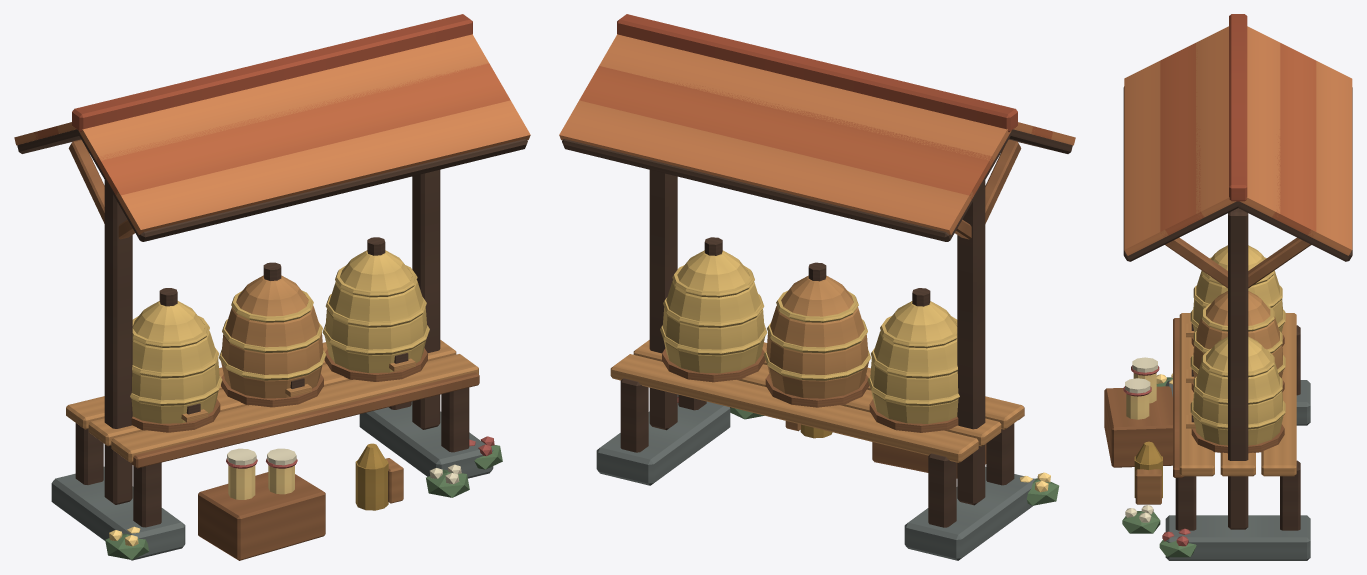
The model's file is beehive_apiary_stand.glb.
The picture shows the model from 3 angles, left to right: view 1: azimuth 30°, elevation 25°; view 2: azimuth 150°, elevation 25°; view 3: azimuth 270°, elevation 25°; orthographic projection. The views are drawn at different scales.
Visible parts, largest first — view 1: beehive_apiary_stand; view 2: beehive_apiary_stand; view 3: beehive_apiary_stand.
Part boxes in pixels (x1,y1,x2,y2): beehive_apiary_stand: [14, 14, 530, 560]; beehive_apiary_stand: [559, 14, 1075, 560]; beehive_apiary_stand: [1104, 14, 1352, 560].
Bounding box in the file's own units: 2.23 × 2.27 × 1.33.
Materials: 1 (1 with a texture image).
